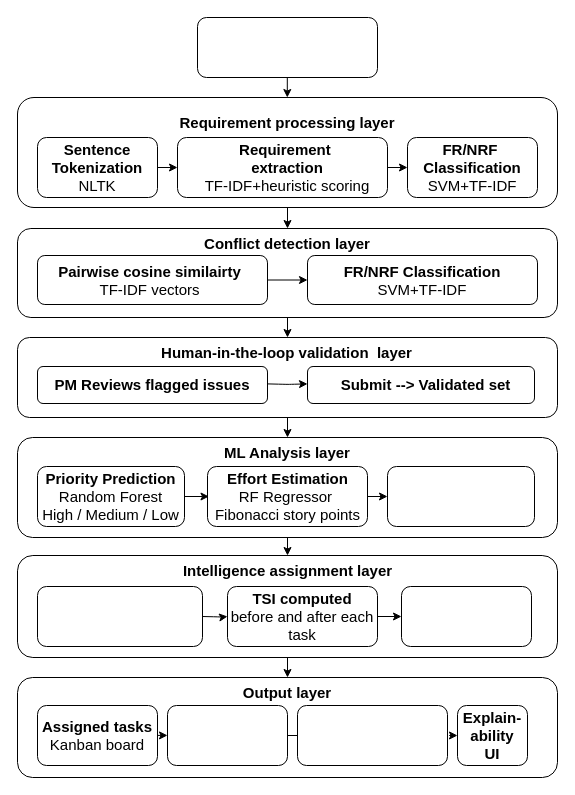
Some shapes in this 575 by 795 pixel diagram are drawn without their labels. Each missing label, with the centre of its shape:
5-risk report with recommendation: the point at 227,735
Confidence High/Mid/Low: the point at 466,616
Input requirement document: the point at 287,47
Task Generation Jira Style tasks Skill extraction: the point at 460,496
Traceability matrix req-->task-->developer: the point at 372,735
Weighted scoring formula skill,workload,urgency: the point at 119,616
